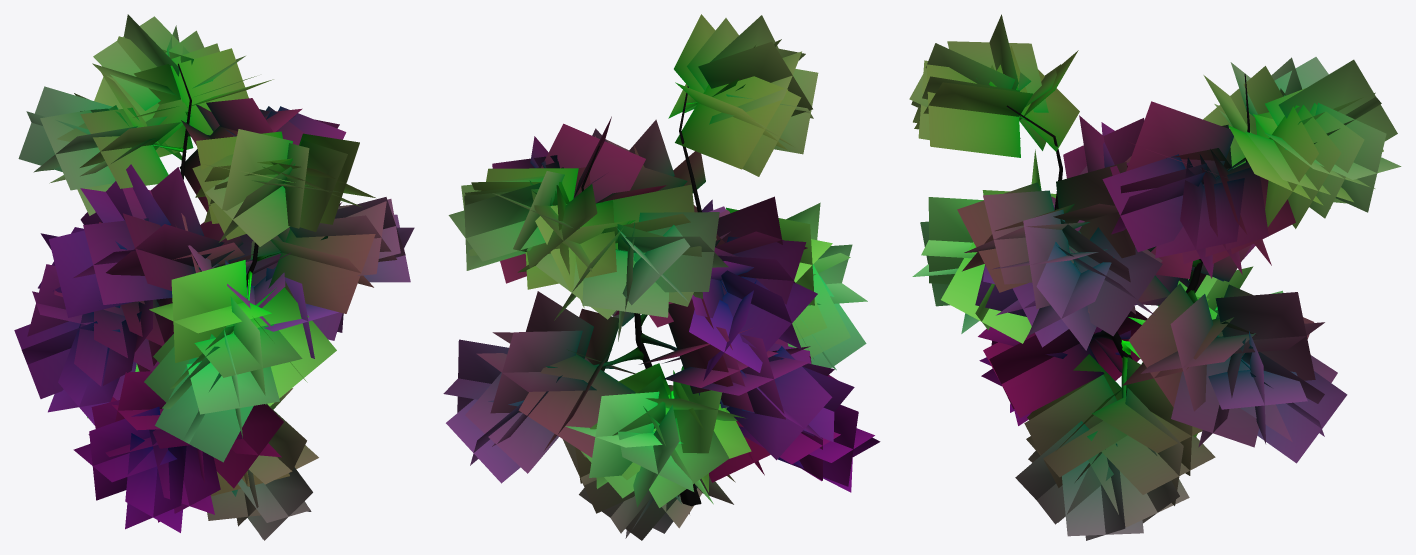
File: M_P14_Tree_8.fbx
3 views of the same model, side by side, from view 1: azimuth 30°, elevation 25°; view 2: azimuth 150°, elevation 25°; view 3: azimuth 270°, elevation 25° (orthographic). The views are drawn at different scales.
Parts seen in each view (by area): view 1: Tree_8; view 2: Tree_8; view 3: Tree_8.
Part boxes in pixels (<box>): Tree_8: <box>14,14,414,540</box>; Tree_8: <box>443,14,880,540</box>; Tree_8: <box>909,14,1401,540</box>.
Size of the model in its own units: 428 by 549 by 497.
